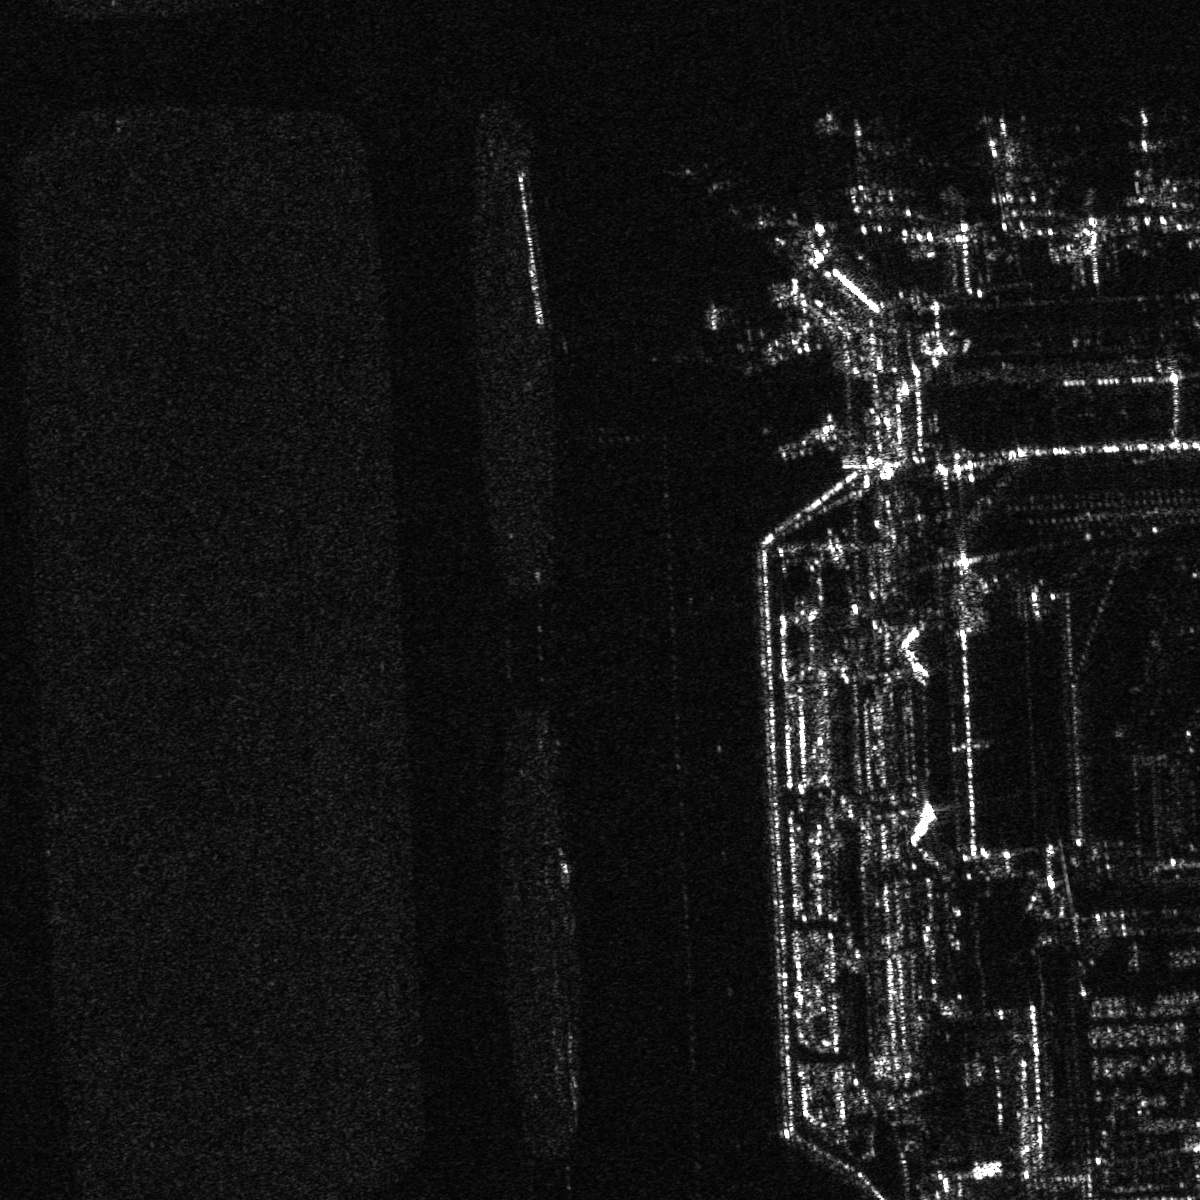Boeing787: (1108, 103, 1187, 216)
other: (968, 112, 1048, 238), (818, 111, 899, 211)
